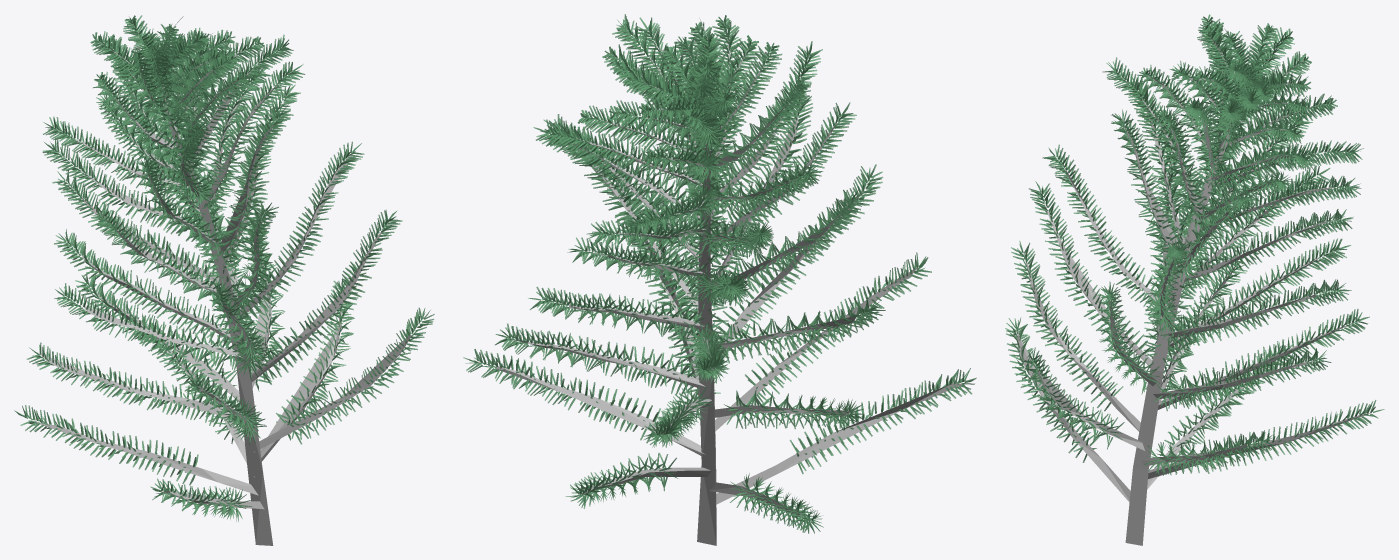
The model's file is PineTree.fbx.
3 renders of one model, left to right at view 1: azimuth 30°, elevation 25°; view 2: azimuth 150°, elevation 25°; view 3: azimuth 270°, elevation 25°, orthographic. The views are drawn at different scales.
Parts seen in each view (by area): view 1: pine1Leaf, pine1Main; view 2: pine1Leaf, pine1Main; view 3: pine1Leaf, pine1Main.
Part boxes in pixels (<box>): pine1Leaf: <box>14,15,434,521</box>; pine1Main: <box>36,16,411,545</box>; pine1Leaf: <box>463,14,976,533</box>; pine1Main: <box>496,19,964,545</box>; pine1Leaf: <box>1005,14,1384,476</box>; pine1Main: <box>1016,26,1370,545</box>.
Bounding box in the file's own units: 16.46 × 23.46 × 16.19.
